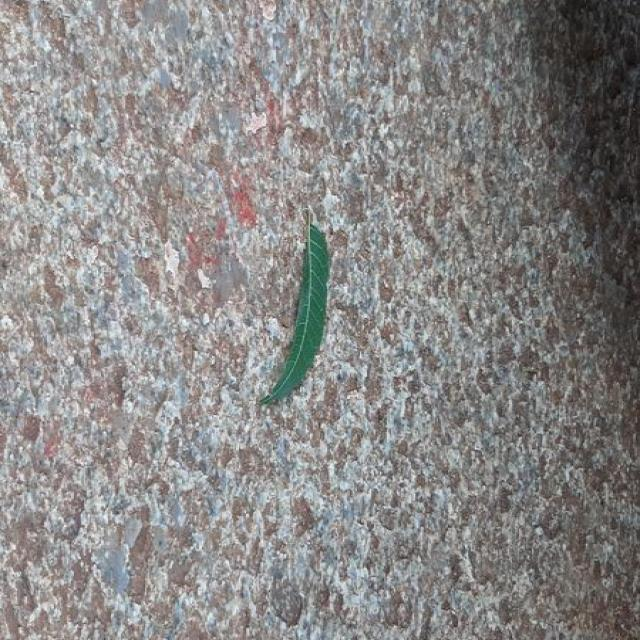neem: (260, 219, 330, 404)
